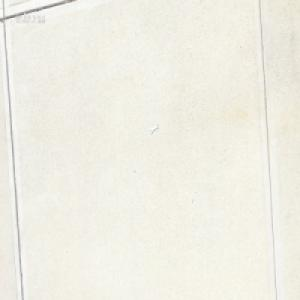Wrench: (150, 123, 158, 133)
